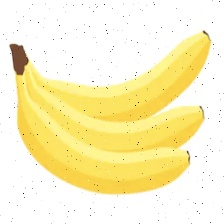banana: (33, 5, 192, 193)
